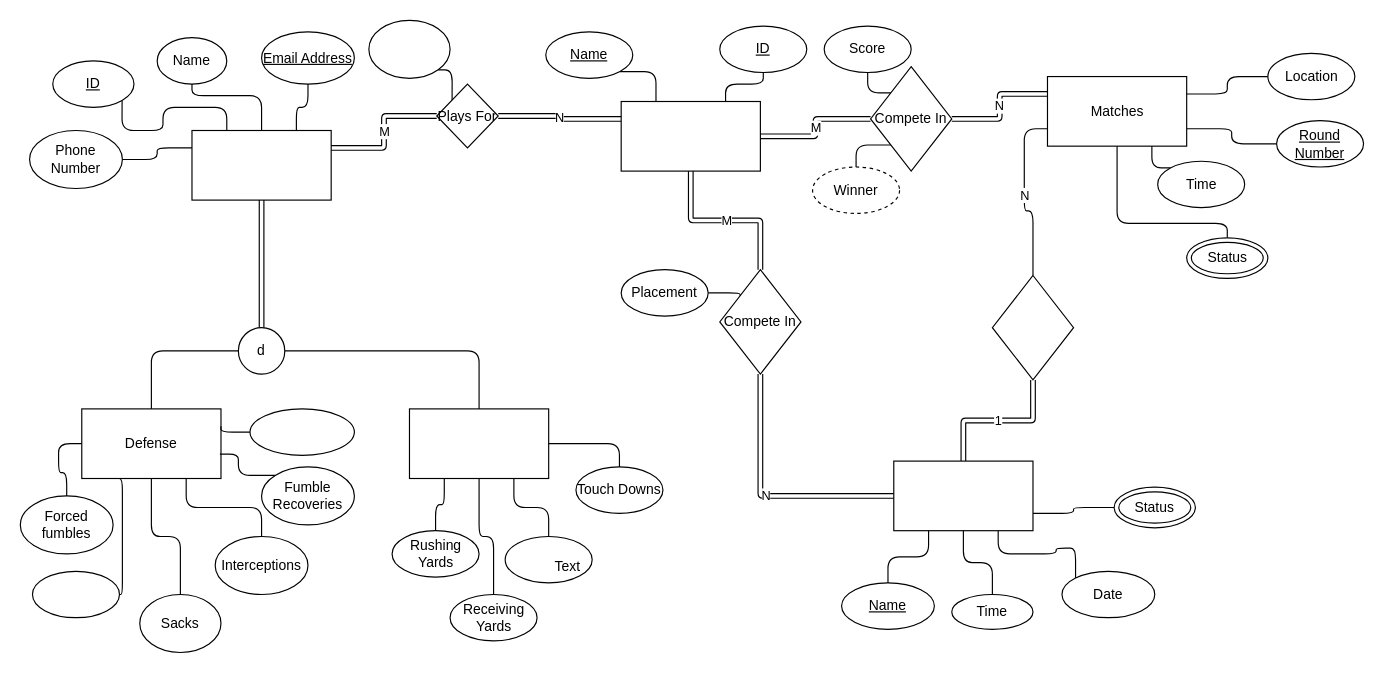
The diagram is 1384 pixels wide and 673 high, and some of its shapes have lost their labels. The shapes that lost their labels are listed below. From the top down, each one's box as (x1, y1, x2, y2) in pixels, then its label:
(368, 19, 450, 78): Jersey Number
(620, 100, 760, 171): Team
(191, 129, 331, 200): Players
(991, 274, 1074, 380): Has
(249, 408, 354, 455): Passes Defended
(408, 408, 549, 478): Offense
(893, 460, 1033, 531): Tournament
(504, 535, 592, 583): Passing Yards
(31, 570, 119, 618): Tackles
